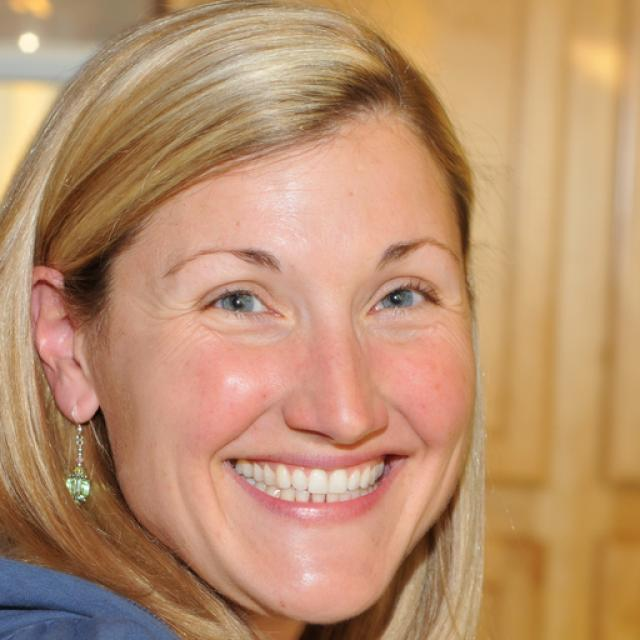happy: (96, 122, 479, 626)
